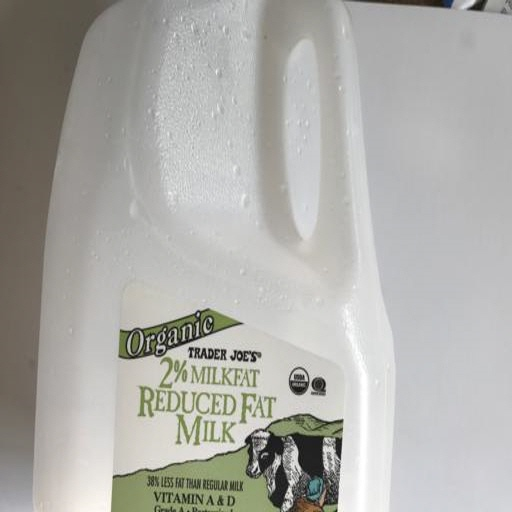Plastic_1: (39, 4, 394, 512)
